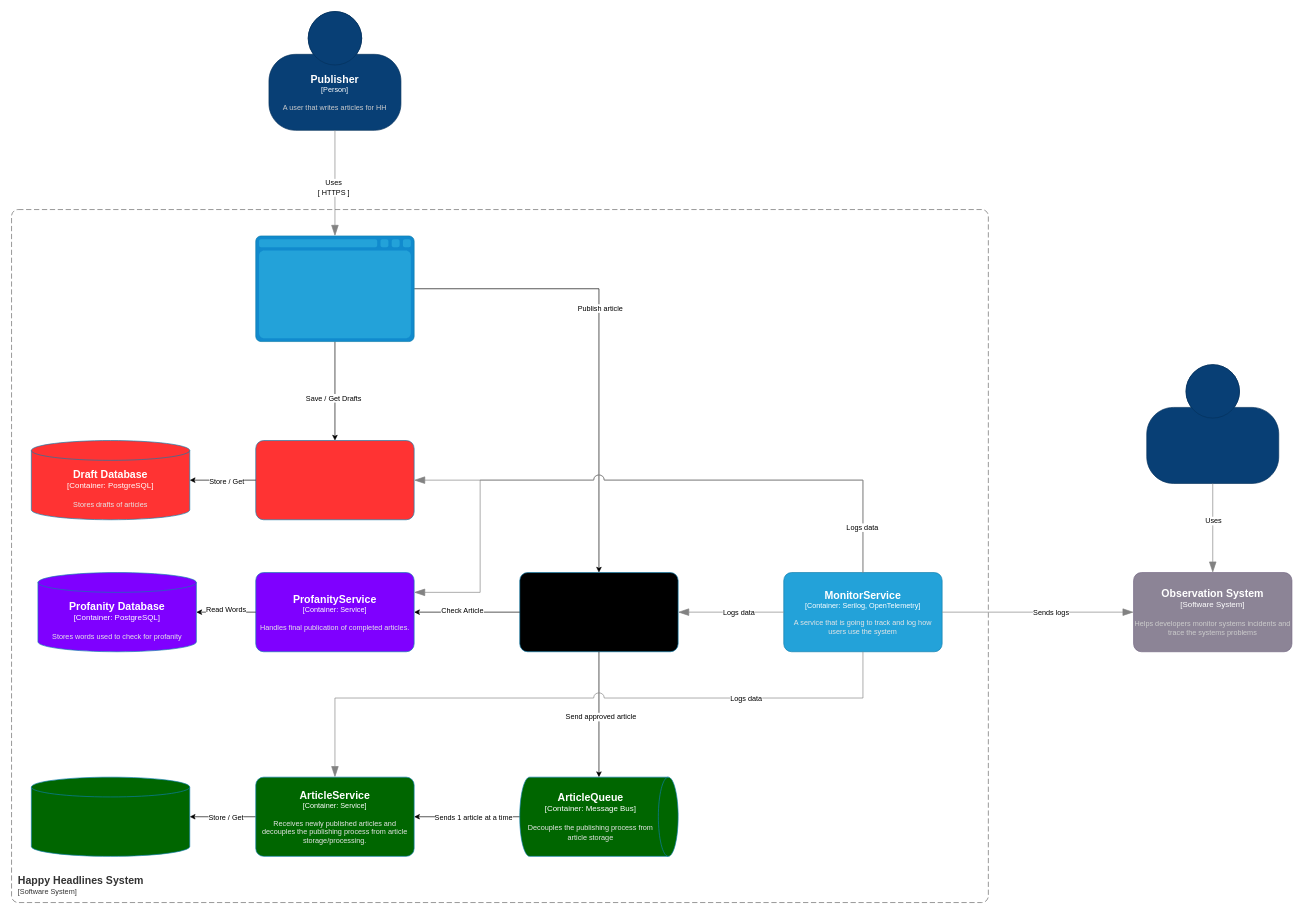
The diagram is 1304 pixels wide and 914 high, and some of its shapes have lost their labels. The centre of each missing label's shape, as x and y in pixels:
"Article Database [Container: PostgreSQL] Stores fisnished articles" belongs at (x=110, y=816).
"Developer [Person] A developer of the HH application" belongs at (x=1212, y=423).
"DraftService [Container: Service] Handles saving and retrieving article drafts." belongs at (x=334, y=480).
"PublisherService [Container: Service] Handles publication of articles" belongs at (x=598, y=612).
"Web Application [Container: HTML, CSS] The publisher's entry point" belongs at (x=334, y=288).
